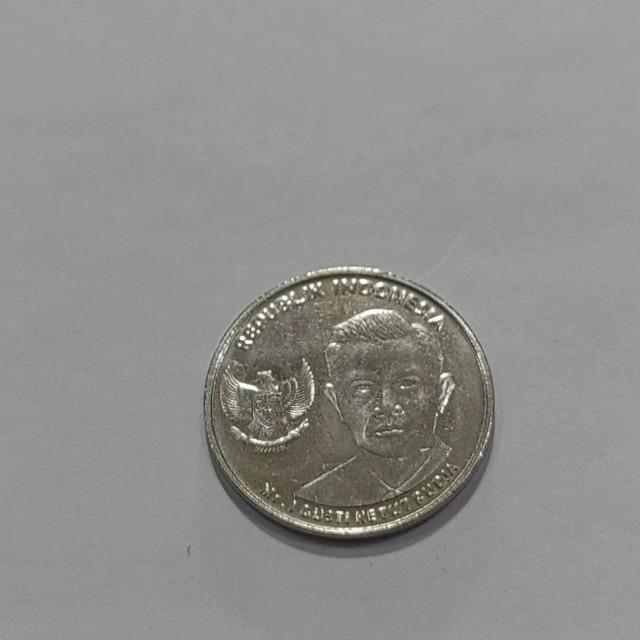Rp100: (203, 264, 496, 541)
